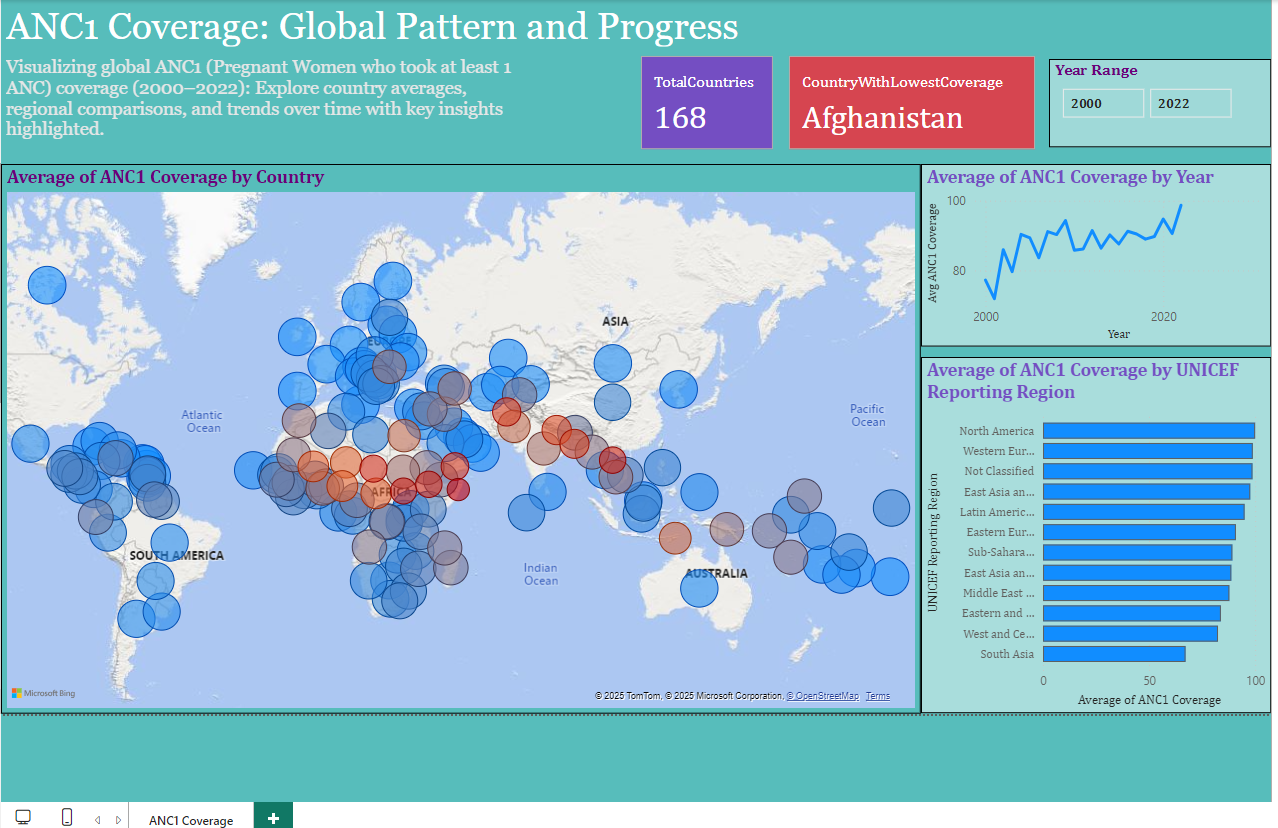

The page's visual inventory and layout, read from the dashboard file:
{"tool":"powerbi","page":{"name":"ANC1 Coverage","canvas":[1280,720],"ordinal":0},"visuals":[{"type":"textbox","box":[0,0,1066.7,51.9],"z":0},{"type":"map","fields":{"Size":["Avg(ANC1.ANC1 Coverage)"],"Category":["ANC1.Country"]},"box":[0,165.3,927.2,554.3],"z":1000},{"type":"slicer","title":"Year Range","fields":{"Values":["ANC1.Year"]},"box":[1056.3,59.5,223.7,88.7],"z":2000},{"type":"lineChart","fields":{"Y":["Avg(ANC1.ANC1 Coverage)"],"Category":["ANC1.Year"]},"box":[927.2,165.3,352.8,184.4],"z":3000},{"type":"clusteredBarChart","fields":{"Category":["ANC1.UNICEF Reporting Region"],"Y":["Avg(ANC1.ANC1 Coverage)"]},"box":[927.2,359.8,352.8,358.8],"z":4000},{"type":"cardVisual","fields":{"Data":["ANC1.TotalCountries"]},"box":[640,51.4,143.1,104.8],"z":5000},{"type":"cardVisual","fields":{"Data":["ANC1.CountryWithLowestCoverage"]},"box":[789.2,51.4,258,104.8],"z":6000},{"type":"textbox","box":[0,51.4,542.2,113.9],"z":7000}]}

Visuals, with their boxes in screenshot pixels (x1, y1, x2, y2):
textbox: [3, 0, 1054, 51]
map - Avg(ANC1.ANC1 Coverage) x ANC1.Country: [3, 163, 916, 709]
"Year Range" slicer: [1043, 59, 1264, 146]
lineChart - Avg(ANC1.ANC1 Coverage) x ANC1.Year: [916, 163, 1264, 344]
clusteredBarChart - ANC1.UNICEF Reporting Region x Avg(ANC1.ANC1 Coverage): [916, 354, 1264, 708]
cardVisual - ANC1.TotalCountries: [633, 51, 774, 154]
cardVisual - ANC1.CountryWithLowestCoverage: [780, 51, 1034, 154]
textbox: [3, 51, 537, 163]
